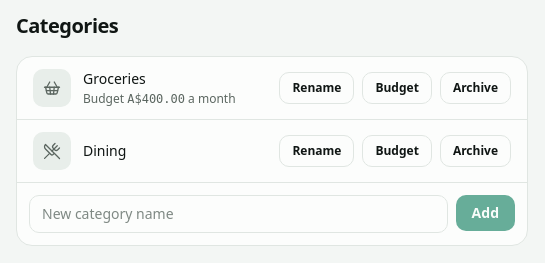
it: CategoryManager › budgets › switches between renaming and setting a budget, one at a time
Click the button "Rename" in the row of "Groceries": coordinates (317, 88) left=279, top=72, right=354, bottom=104
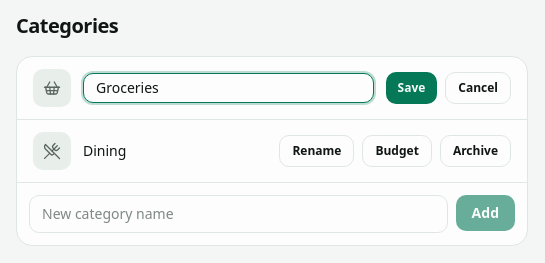
Now the field showing "Groceries" is shown, box left=83, top=73, right=374, bottom=103
Click the button with aria-label "Budget for Dining": coordinates (397, 151) left=362, top=135, right=432, bottom=167
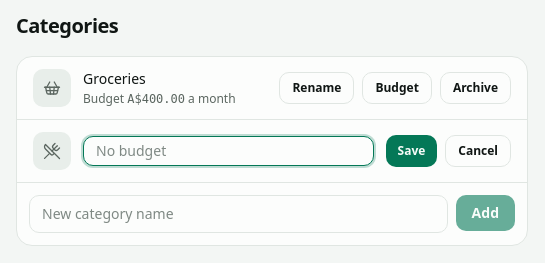
Now the field named "Monthly budget for Dining" is shown, box left=83, top=136, right=374, bottom=166
